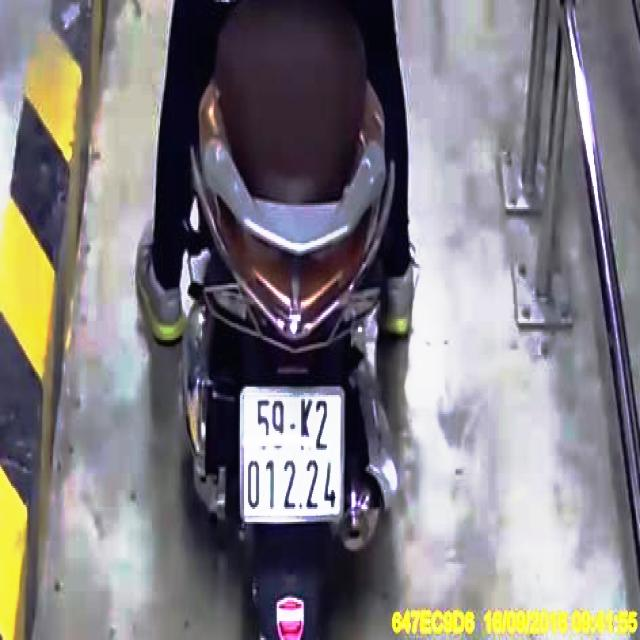license_plate: (241, 389, 345, 523)
